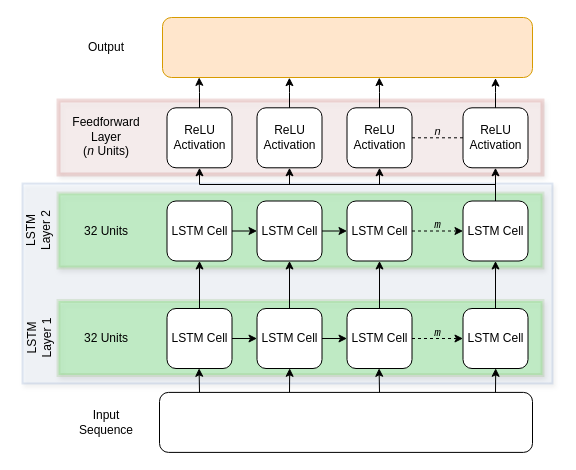
The diagram is 576 pixels wide and 470 high, and some of its shapes have lost their labels. The shapes that lost their labels are listed below. From the top down, each one's centre as x and y in pixels, then its label:
At point 347,47: "GHI Prediction ( n time steps)".
At point 345,421: "[GHI, Solar Zenith Angle, [Latent Vector]] X ( m time steps)".
